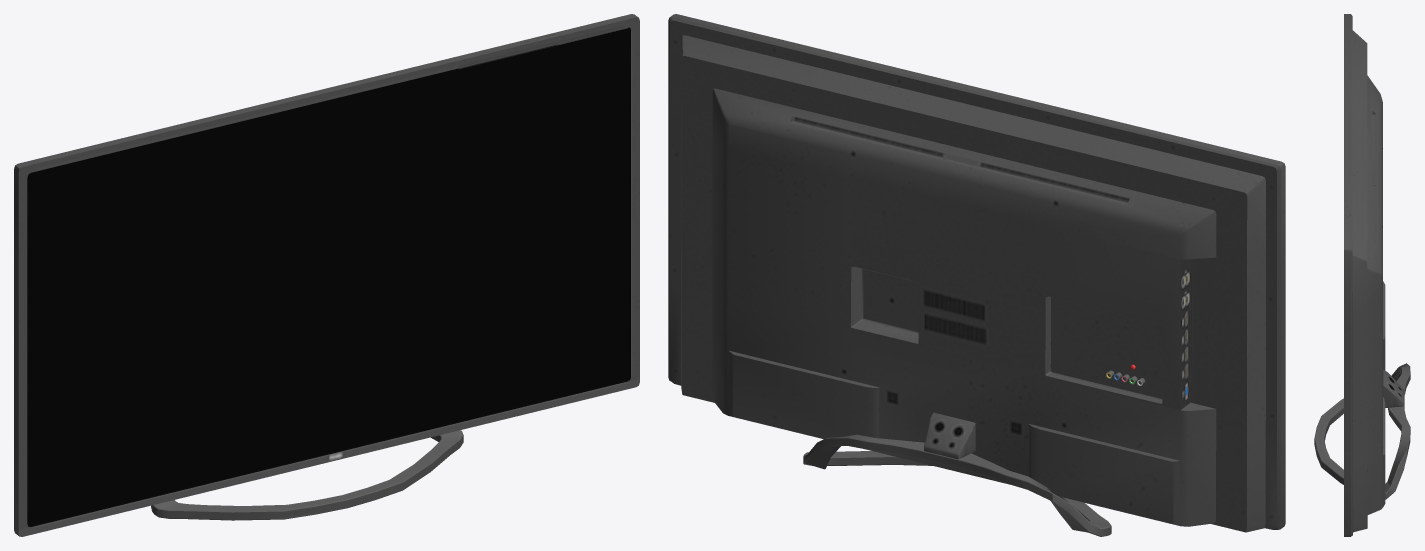
File: 32 inch.fbx
The picture shows the model from 3 angles, left to right: view 1: azimuth 30°, elevation 25°; view 2: azimuth 150°, elevation 25°; view 3: azimuth 270°, elevation 25°; orthographic projection. The views are drawn at different scales.
Parts seen in each view (by area): view 1: 32 inch; view 2: 32 inch; view 3: 32 inch.
Part boxes in pixels (<box>): 32 inch: <box>14,14,639,536</box>; 32 inch: <box>668,14,1285,536</box>; 32 inch: <box>1314,14,1410,536</box>.
Bounding box in the file's own units: 1.04 × 0.6465 × 0.1793.
